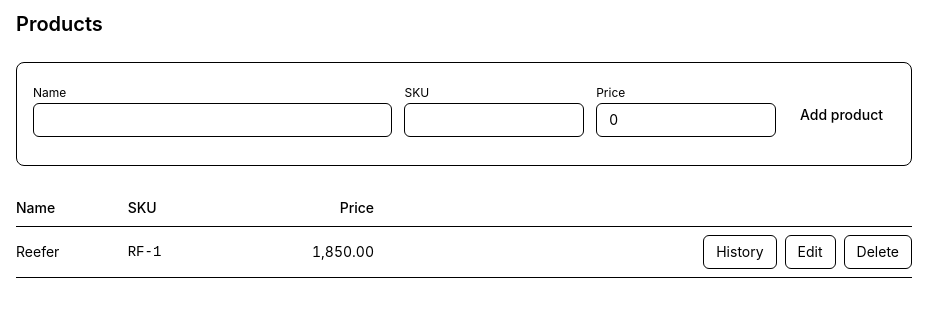
Test: ProductsPage › shows ValidationError fields next to the inputs
In the field labelled "SKU": coordinates (494, 120) x1=404 y1=103 x2=584 y2=137, type "x"
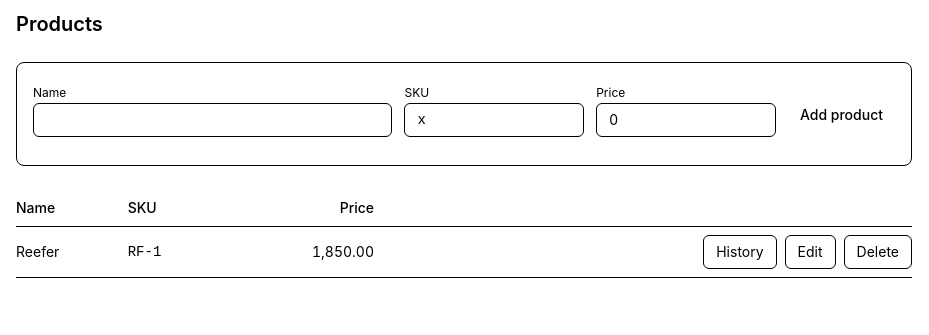
Submit the form named "New product", box x1=16 y1=62 x2=912 y2=166
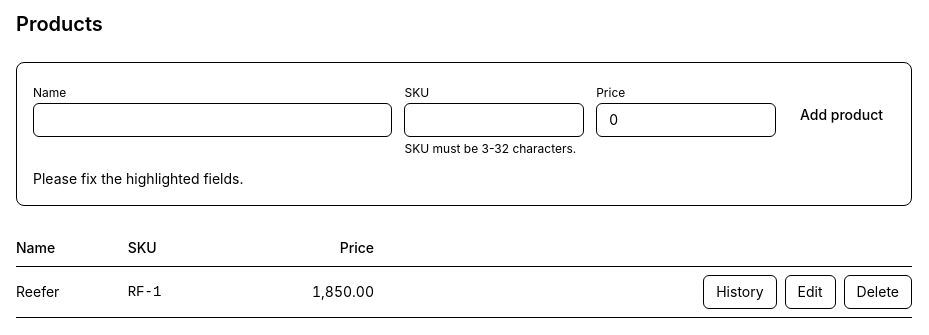
Now the text "SKU must be 3-32 characters." is shown, box x1=404 y1=141 x2=584 y2=157
Now the message reads "Please fix the highlighted fields.", box x1=33 y1=170 x2=244 y2=187
